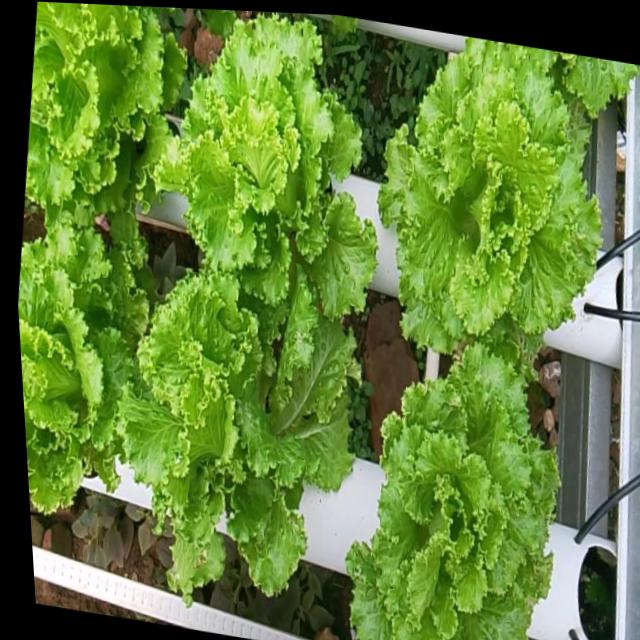Mature: (121, 261, 353, 633), (377, 36, 622, 361), (155, 11, 376, 315), (345, 337, 559, 640), (24, 2, 184, 236), (18, 219, 146, 509)
